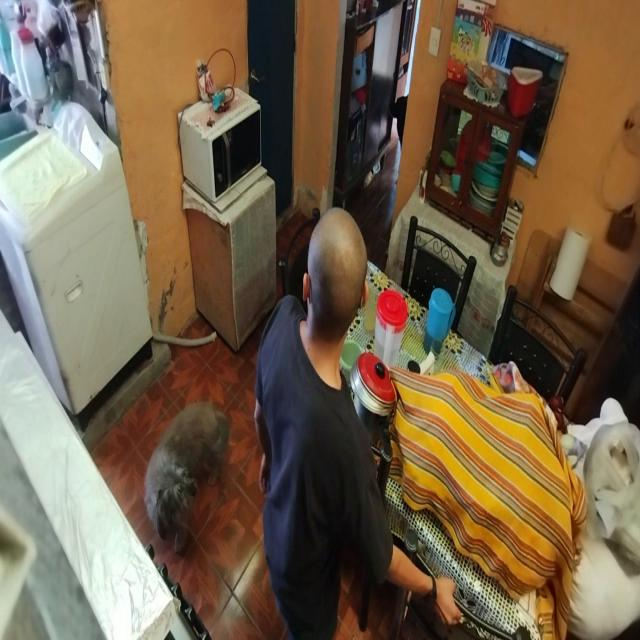adult: (255, 204, 462, 640)
